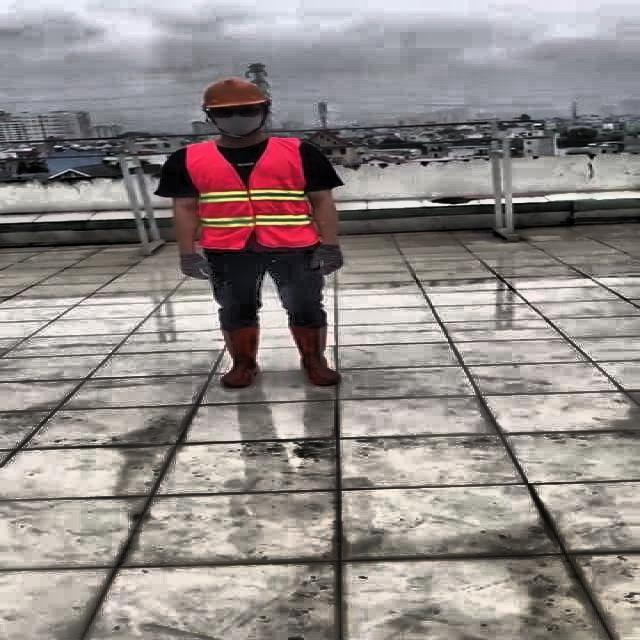safety_helmet: (198, 76, 272, 109)
safety_jacket: (184, 138, 318, 248)
